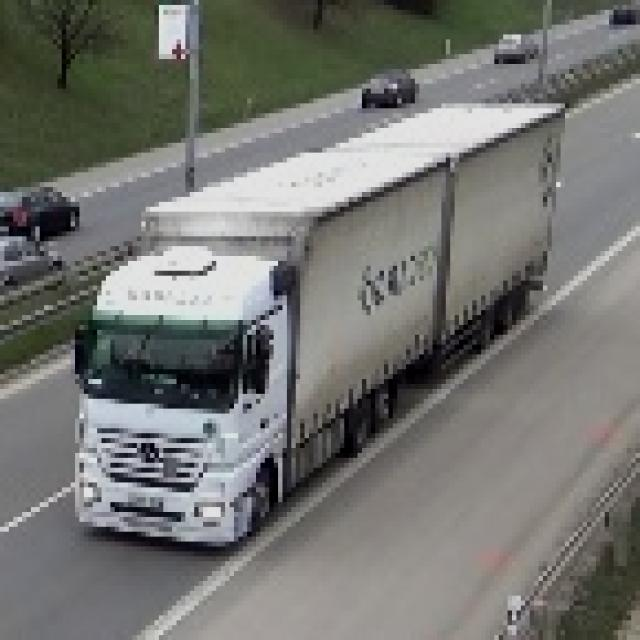TRUCK: (70, 101, 570, 544)
